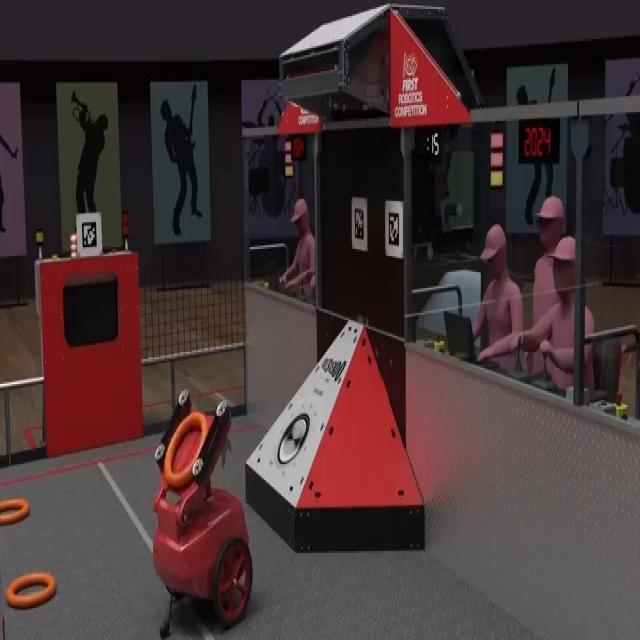notes: (164, 412, 208, 488), (5, 570, 58, 610), (0, 496, 31, 525)
